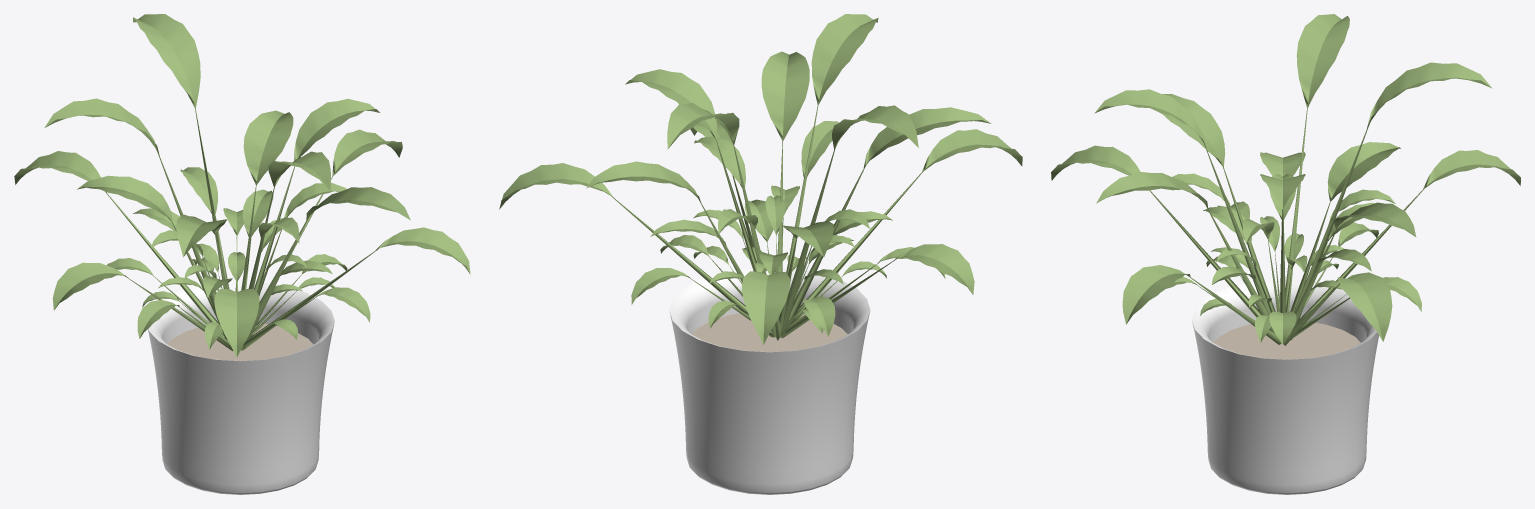
File: plant_interior3.glb
3 renders of one model, left to right at view 1: azimuth 30°, elevation 25°; view 2: azimuth 150°, elevation 25°; view 3: azimuth 270°, elevation 25°, orthographic. The views are drawn at different scales.
Visible parts, largest first — view 1: Mesh5632_M_55_0; view 2: Mesh5632_M_55_0; view 3: Mesh5632_M_55_0.
Boxes of the visible parts, bbox=[...] form: Mesh5632_M_55_0: bbox=[14, 14, 470, 494]; Mesh5632_M_55_0: bbox=[499, 14, 1022, 494]; Mesh5632_M_55_0: bbox=[1051, 14, 1520, 494].
Size of the model in its own units: 0.00218 by 0.00203 by 0.00222.
